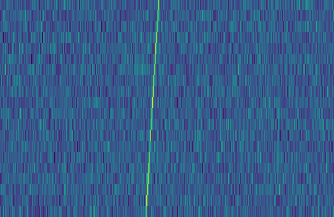signal: (141, 0, 163, 217)
